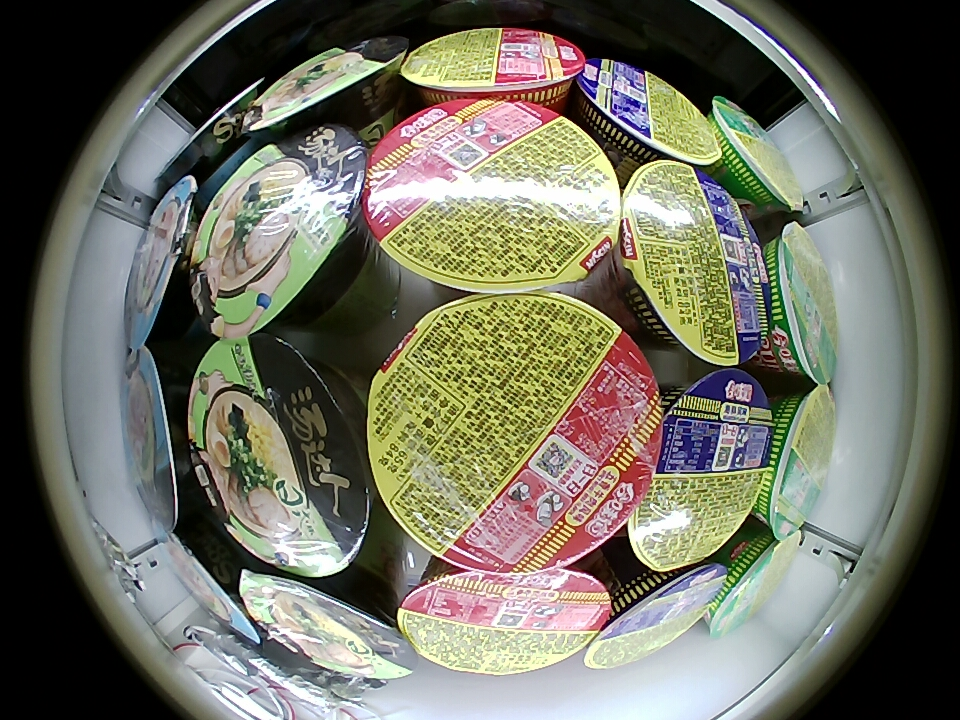heweidao: (619, 160, 770, 366), (629, 368, 777, 572), (576, 57, 720, 168), (586, 561, 727, 670)
heweidao2: (756, 382, 837, 540), (763, 220, 839, 386), (709, 95, 808, 218), (706, 527, 802, 639)
heweidao3: (366, 291, 661, 576), (363, 98, 621, 292), (397, 564, 611, 676), (401, 28, 584, 107)
tangdaren: (188, 332, 376, 577), (186, 125, 372, 337), (240, 566, 414, 686), (240, 35, 409, 141)
tangdaren3: (156, 514, 263, 647), (123, 176, 204, 348), (123, 348, 197, 535), (161, 78, 261, 187)
